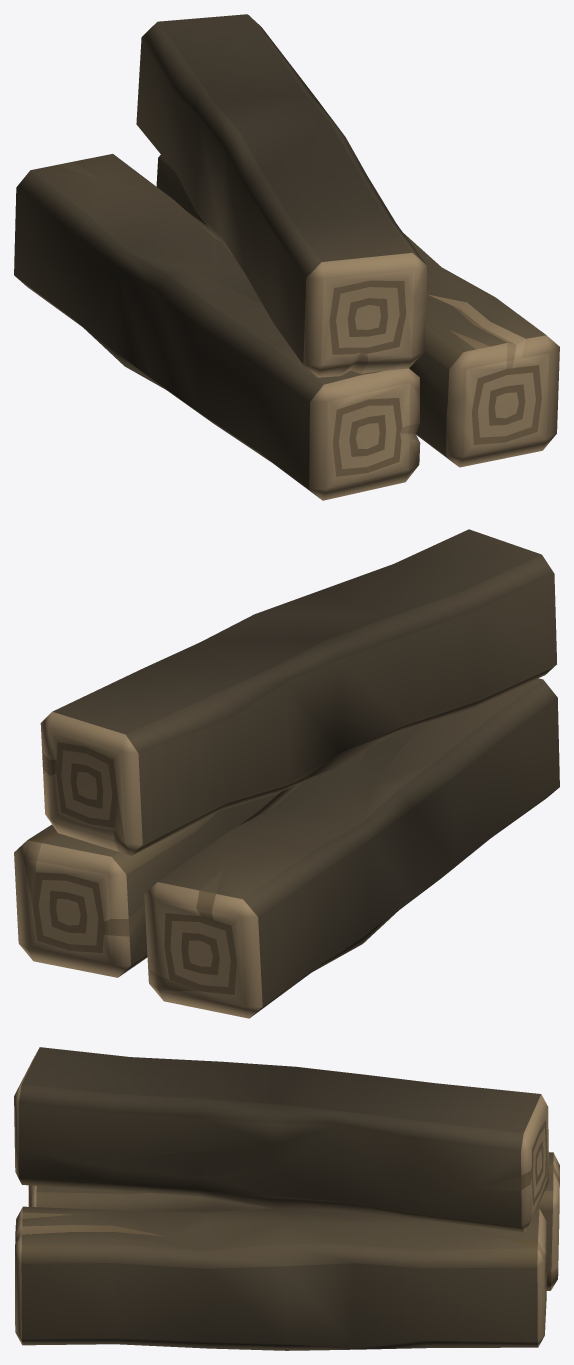
Rendered from orc_wood_pile_small.fbx.
3 views of the same model, one above another, from view 1: azimuth 30°, elevation 25°; view 2: azimuth 150°, elevation 25°; view 3: azimuth 270°, elevation 25° (orthographic). The views are drawn at different scales.
Visible parts, largest first — view 1: orc_wood_pile_small; view 2: orc_wood_pile_small; view 3: orc_wood_pile_small.
Boxes of the visible parts, left/top/right/bottom form: orc_wood_pile_small: left=14, top=14, right=559, bottom=500; orc_wood_pile_small: left=14, top=529, right=559, bottom=1018; orc_wood_pile_small: left=14, top=1047, right=559, bottom=1350.
Bounding box in the file's own units: 152 × 145 × 323.
